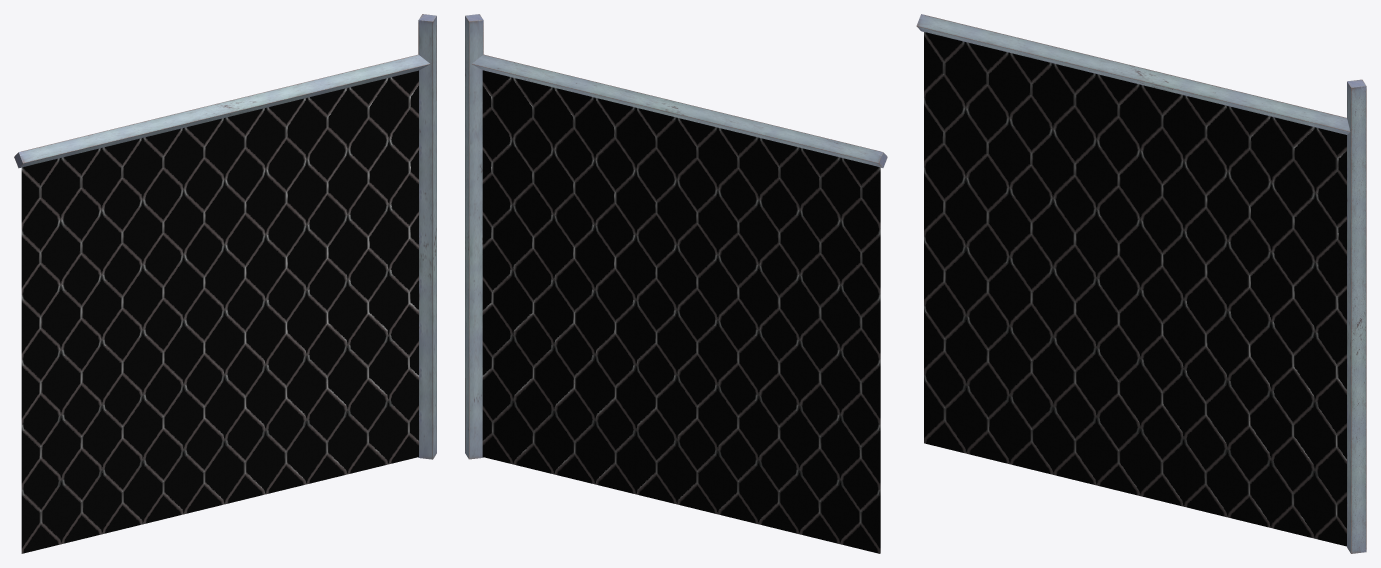
The model's file is Grade2.fbx.
3 renders of one model, left to right at view 1: azimuth 30°, elevation 25°; view 2: azimuth 150°, elevation 25°; view 3: azimuth 330°, elevation 25°, orthographic. The views are drawn at different scales.
Visible parts, largest first — view 1: Cerca1/2; view 2: Cerca1/2; view 3: Cerca1/2.
Boxes of the visible parts, x1,y1,x2,y2 form: Cerca1/2: (14,14,436,553); Cerca1/2: (465,14,887,553); Cerca1/2: (916,14,1366,553).
Size of the model in its own units: 212 by 212 by 9.34.
